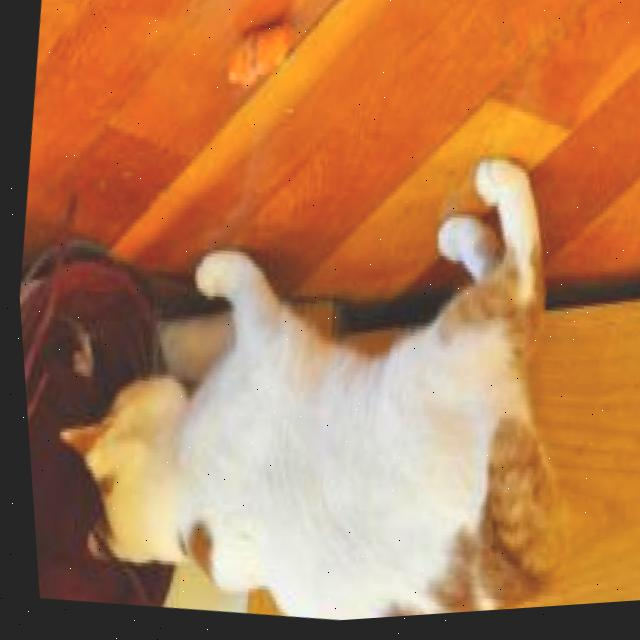American Bobtail: (11, 92, 623, 640)
